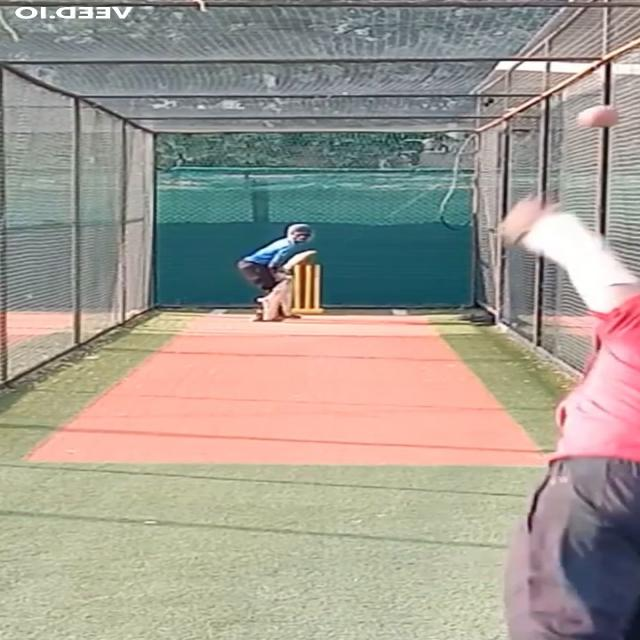ball: (574, 102, 624, 132)
stump: (287, 260, 326, 316)
